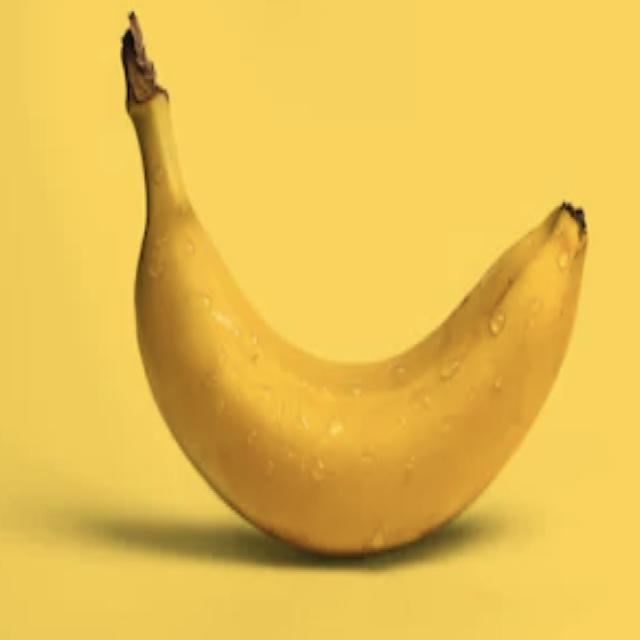Banana: (118, 9, 589, 558)
